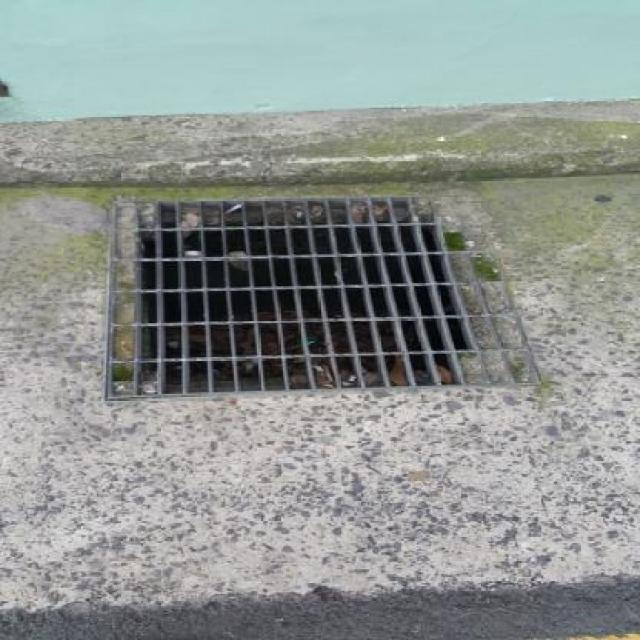Drain Hole: (108, 195, 571, 399)
